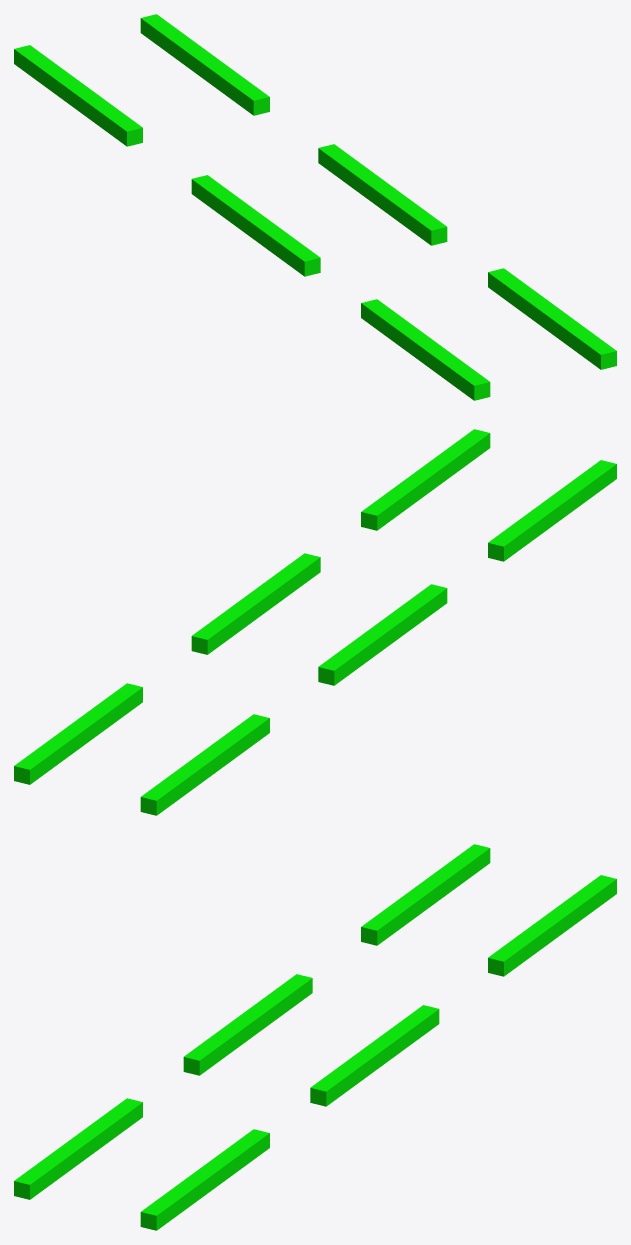
File: enemy_laser_beam.glb
The picture shows the model from 3 angles, top to bottom: view 1: azimuth 30°, elevation 25°; view 2: azimuth 150°, elevation 25°; view 3: azimuth 330°, elevation 25°; orthographic projection.
Parts seen in each view (by area): view 1: laser_beam; view 2: laser_beam; view 3: laser_beam.
Boxes of the visible parts, bbox=[...] form: laser_beam: bbox=[14, 14, 616, 400]; laser_beam: bbox=[14, 429, 616, 815]; laser_beam: bbox=[14, 844, 616, 1230].
Bounding box in the file's own units: 0.1568 × 0.0158 × 0.8755.
